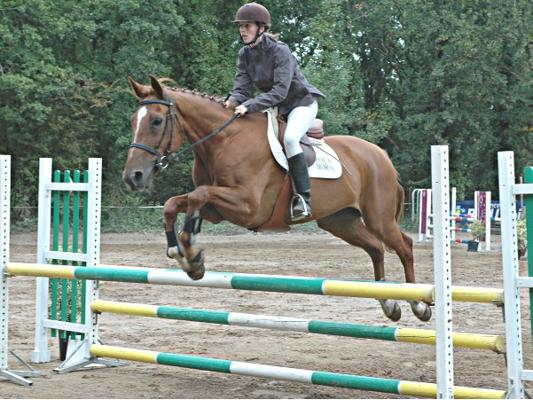person: (224, 4, 322, 225)
